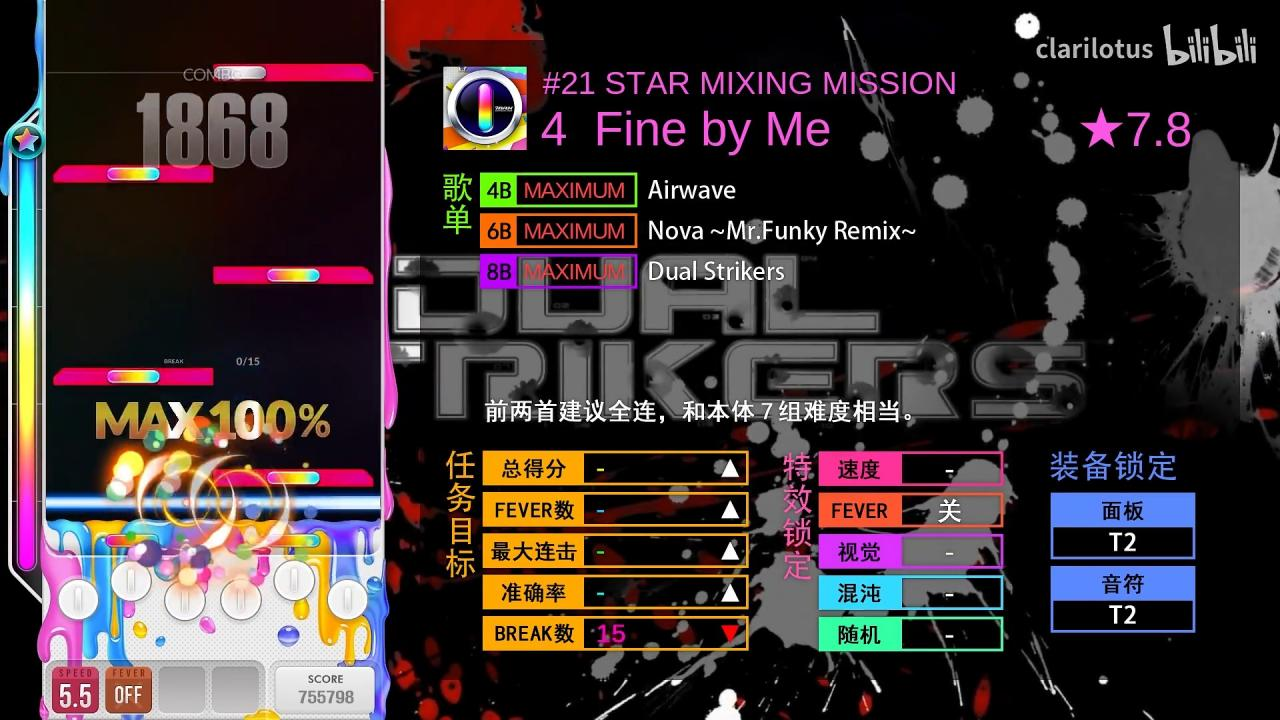note: (266, 470, 320, 486), (214, 65, 266, 81), (106, 166, 161, 181), (106, 369, 161, 384), (267, 268, 320, 283)
xnote: (213, 266, 374, 284), (214, 63, 374, 81), (214, 469, 374, 487), (54, 368, 213, 385), (53, 166, 214, 182)
